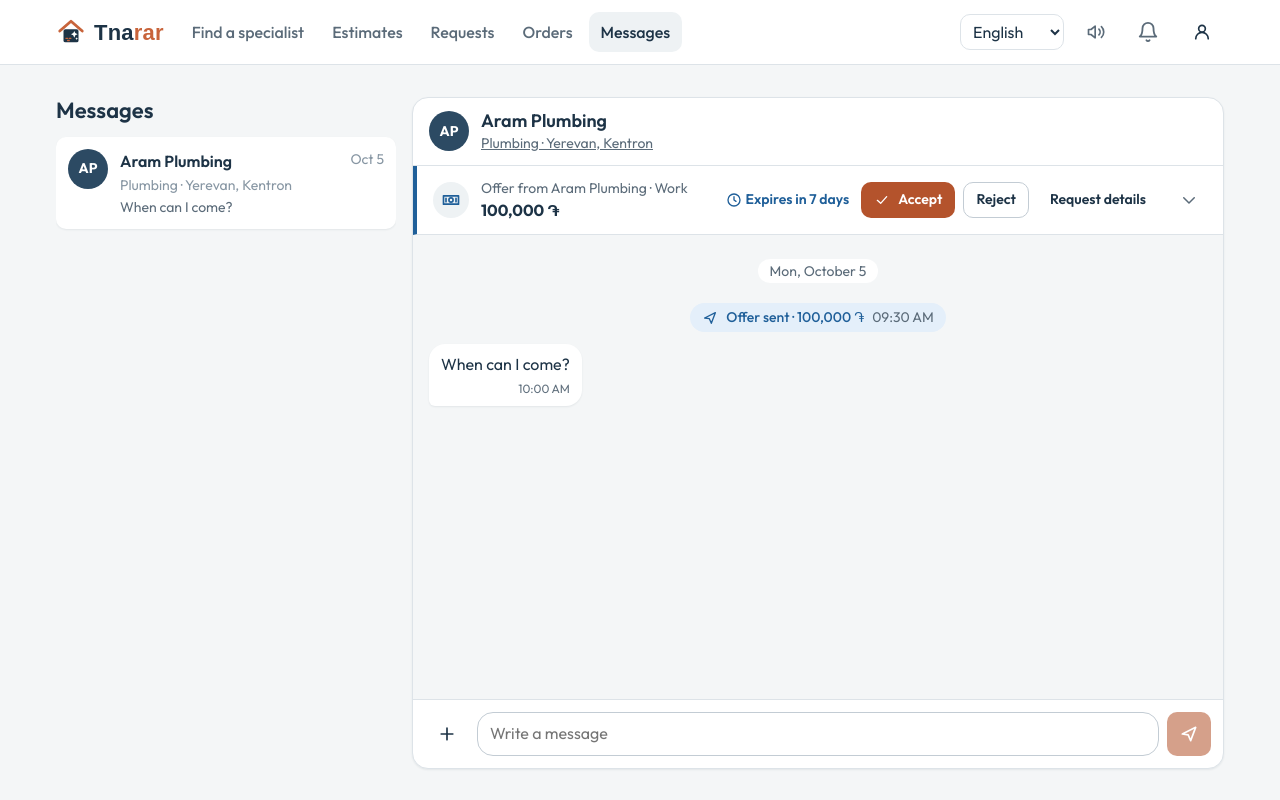
Scenario: Offer in the chat › lets the customer decline the offer, saying why
The width and height of the screenshot is (1280, 800).
Click the button "Reject" at (996, 200), box [963,182,1029,218]
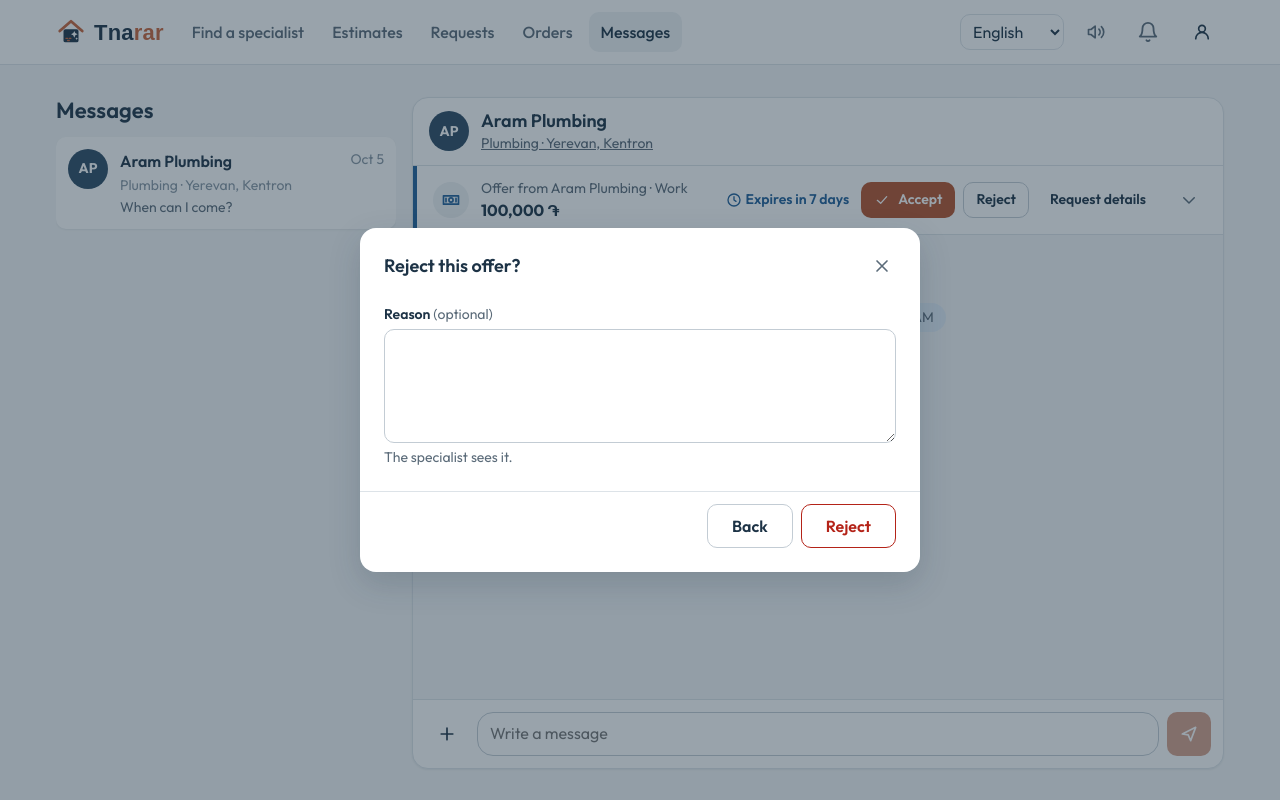
Type "Too expensive" into the text box labelled "Reason (optional)" at (640, 386), box [384,329,896,443]
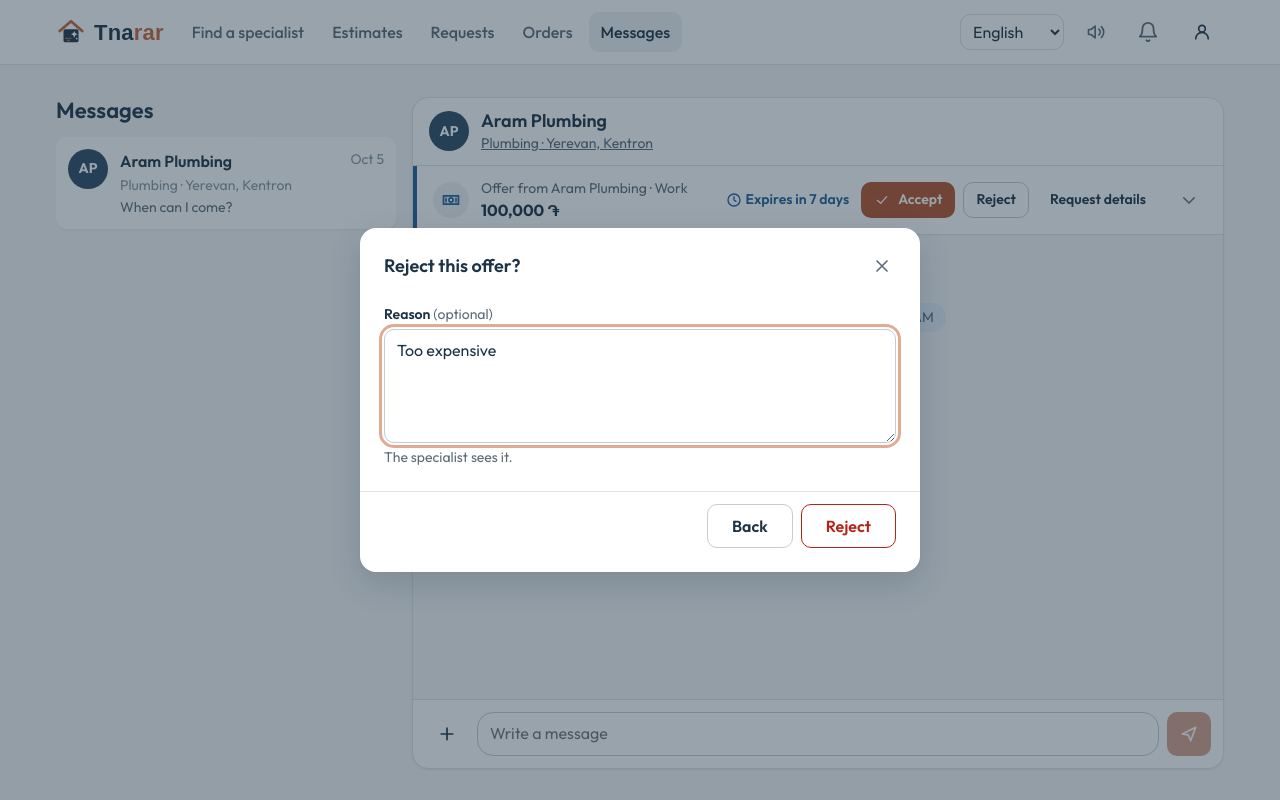
Click the button "Reject" at (848, 526), box [801,504,896,548]
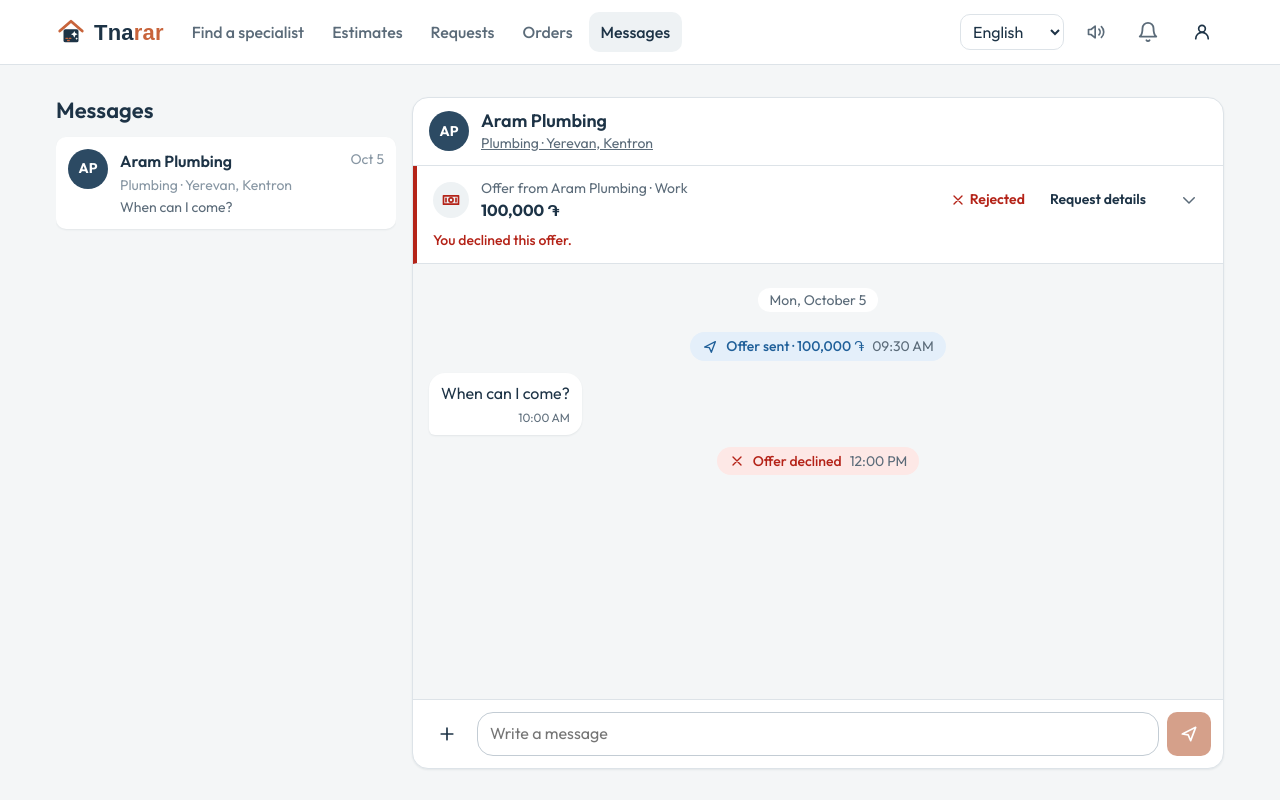
expect the text "You declined this offer." is shown: met, box [433,231,572,249]
